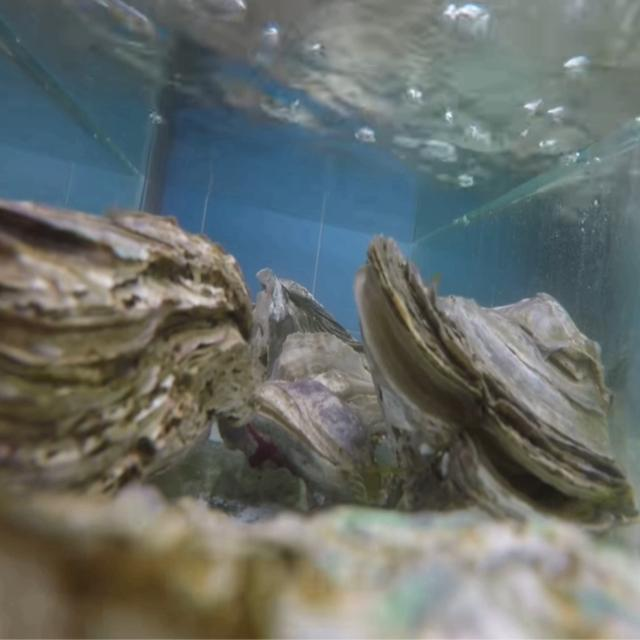Oyster-Closed: (0, 198, 256, 524), (250, 332, 406, 510)
Oyster-Indeterminate: (0, 485, 640, 640), (254, 266, 370, 383)
Oyster-Open: (354, 234, 640, 543)
